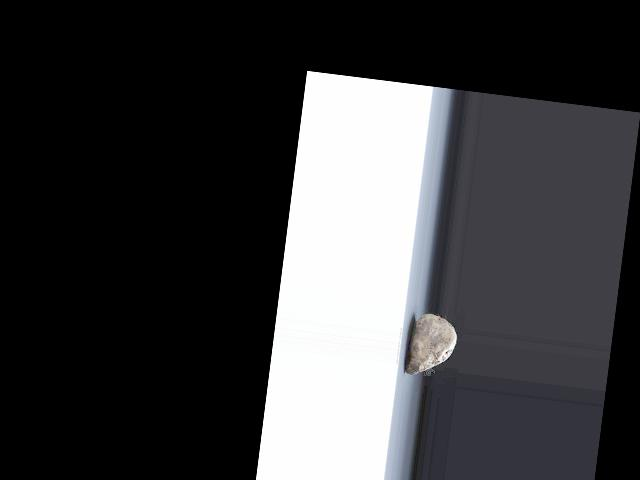beet: (405, 310, 458, 378)
